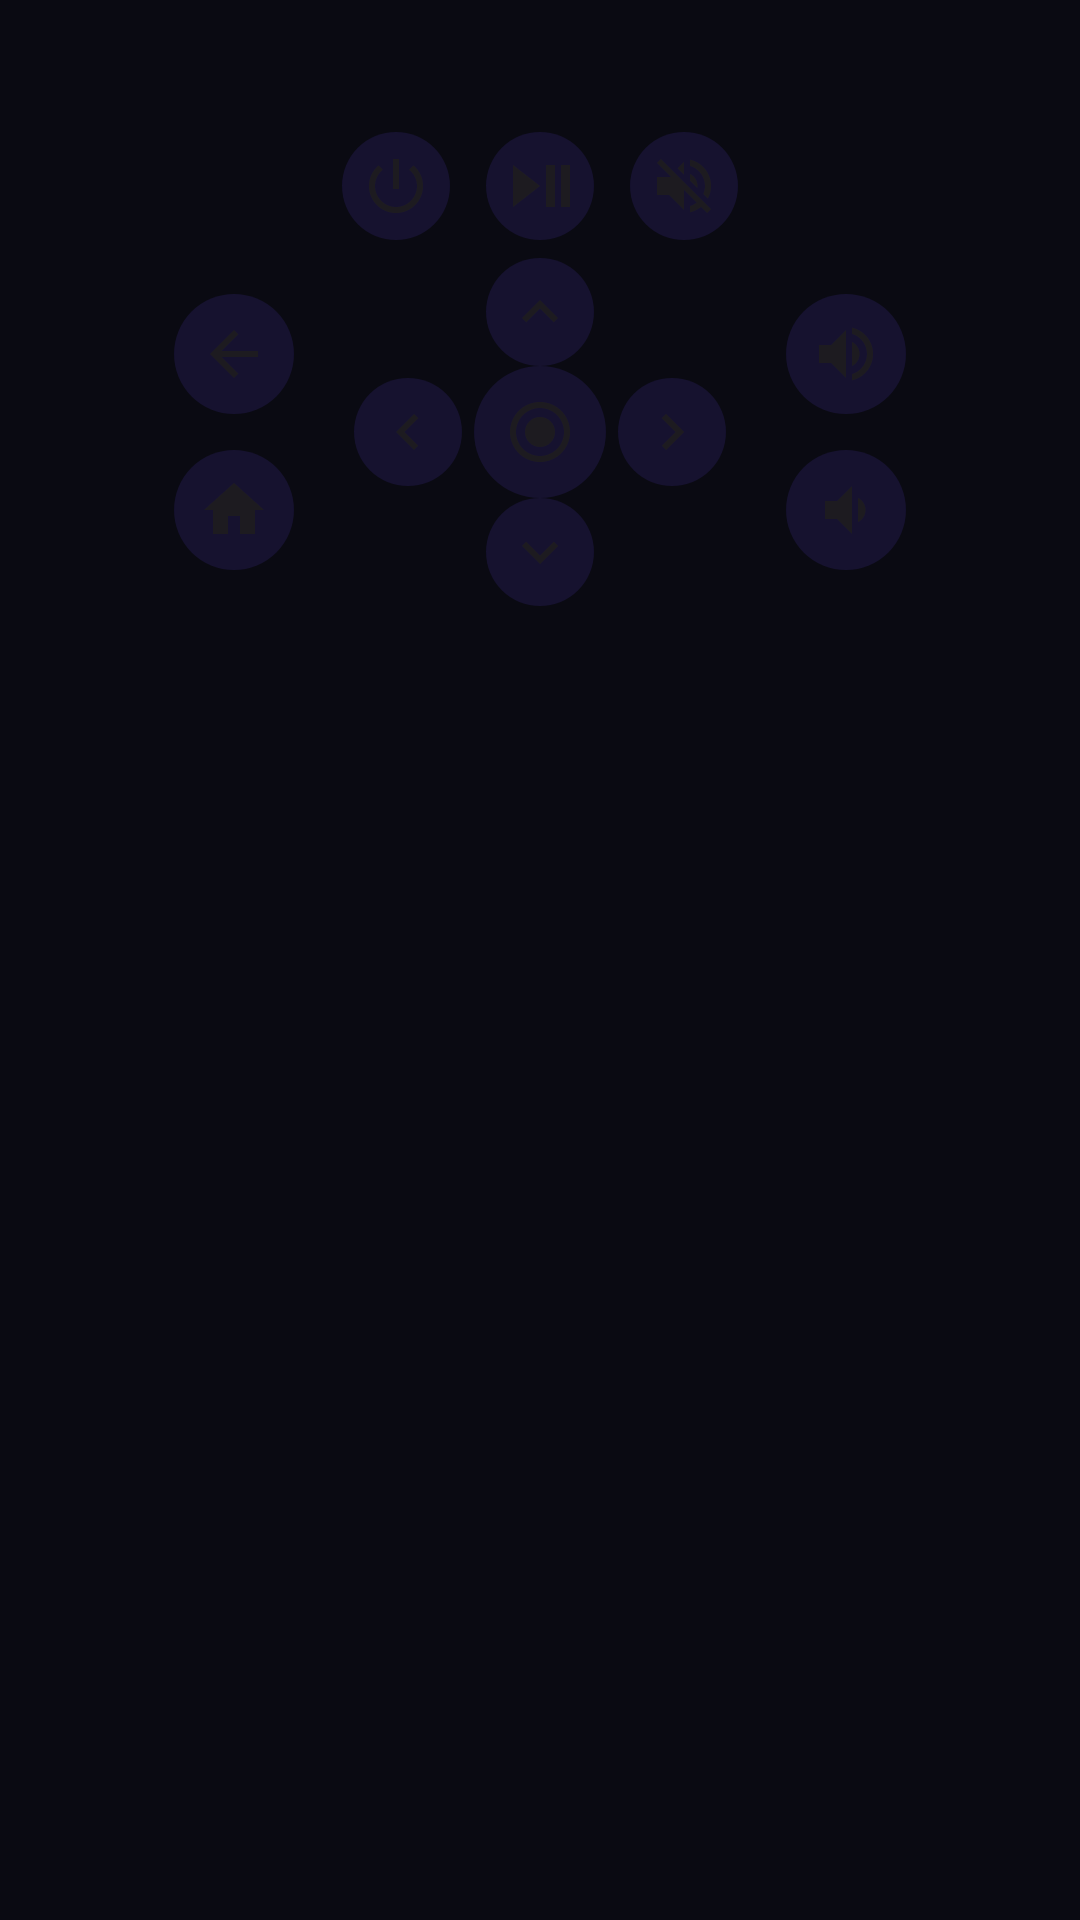

Screen size 1080 x 1920. Icon name, then its center in pixels as [x,y]:
Back: [234,354]
Down: [540,552]
Home: [234,510]
Left: [408,432]
Mute: [684,186]
OK: [540,432]
Play or pause: [540,186]
Power: [396,186]
Right: [672,432]
Up: [540,312]
Volume down: [846,510]
Volume up: [846,354]
